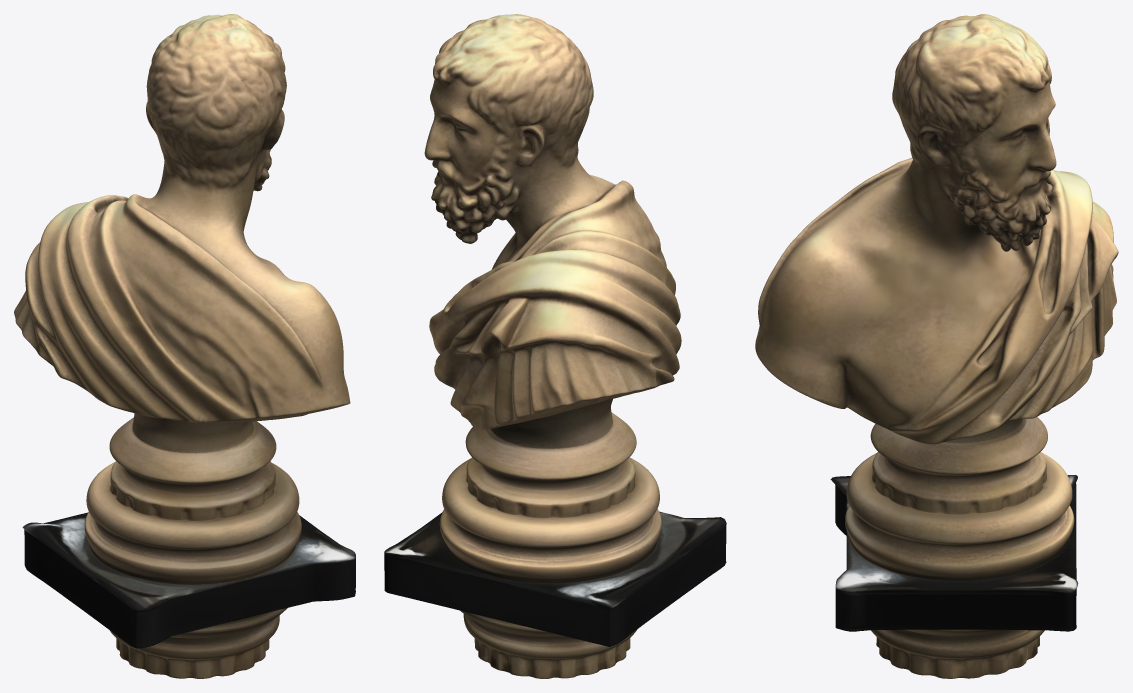
The model's file is busto-romano.glb.
The picture shows the model from 3 angles, left to right: view 1: azimuth 30°, elevation 25°; view 2: azimuth 150°, elevation 25°; view 3: azimuth 270°, elevation 25°; orthographic projection. The views are drawn at different scales.
Parts seen in each view (by area): view 1: tripo_node_78e07bd0-0cf2-4815-bba5-c2f71d1f9867; view 2: tripo_node_78e07bd0-0cf2-4815-bba5-c2f71d1f9867; view 3: tripo_node_78e07bd0-0cf2-4815-bba5-c2f71d1f9867.
Boxes of the visible parts, left/top/right/bottom form: tripo_node_78e07bd0-0cf2-4815-bba5-c2f71d1f9867: left=14, top=14, right=355, bottom=678; tripo_node_78e07bd0-0cf2-4815-bba5-c2f71d1f9867: left=384, top=14, right=726, bottom=678; tripo_node_78e07bd0-0cf2-4815-bba5-c2f71d1f9867: left=755, top=14, right=1118, bottom=678.
Size of the model in its own units: 0.4108 by 1 by 0.5132.
1 material, 1 textured.
